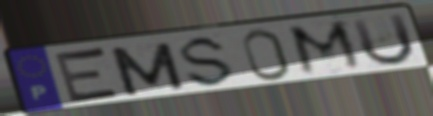0: (238, 27, 294, 83)
E: (52, 45, 125, 106)
M: (284, 18, 369, 79), (105, 40, 189, 98)
S: (178, 34, 237, 89)
U: (348, 11, 418, 69)
